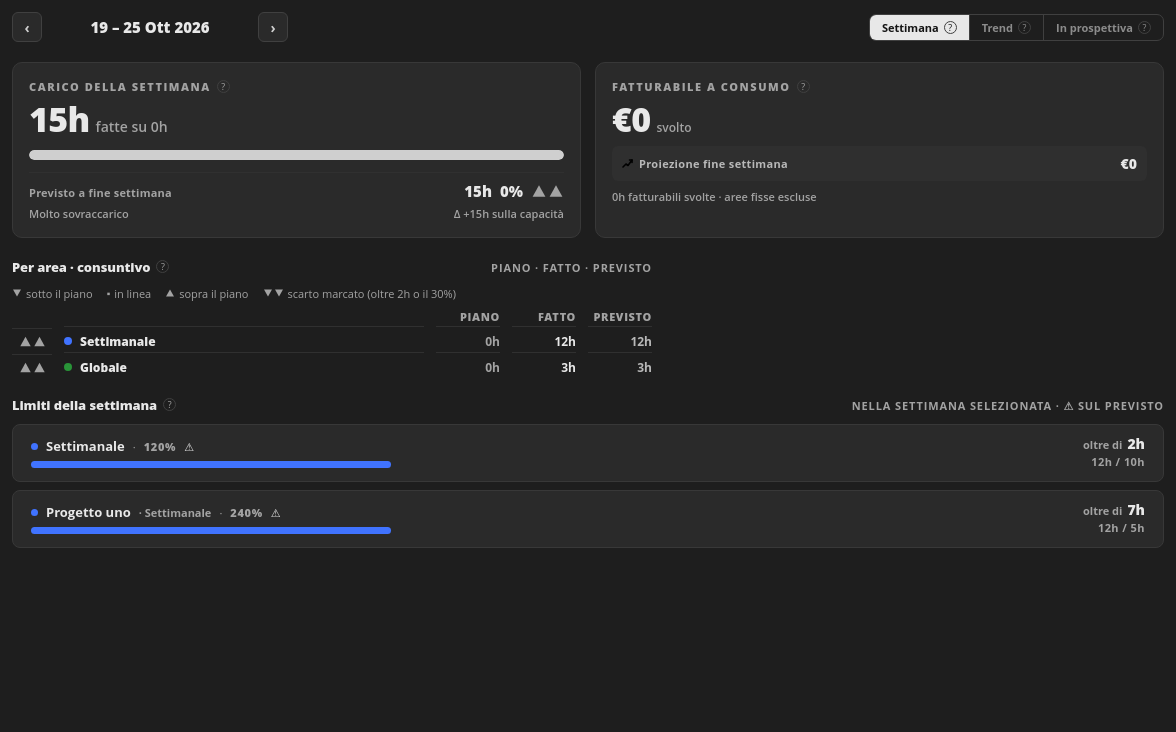
Test: ProgressScreen / Settimana: limiti e budget › Limiti della settimana mostra solo i tetti settimanali; i budget totali stanno in In prospettiva
Expected: the text "Settimanale" next to "120" is shown, [46,437,125,455]
Expected: the text "Progetto uno" is shown, [46,503,131,521]
Click the button "In prospettiva": (1094, 27) [1056,20,1133,34]
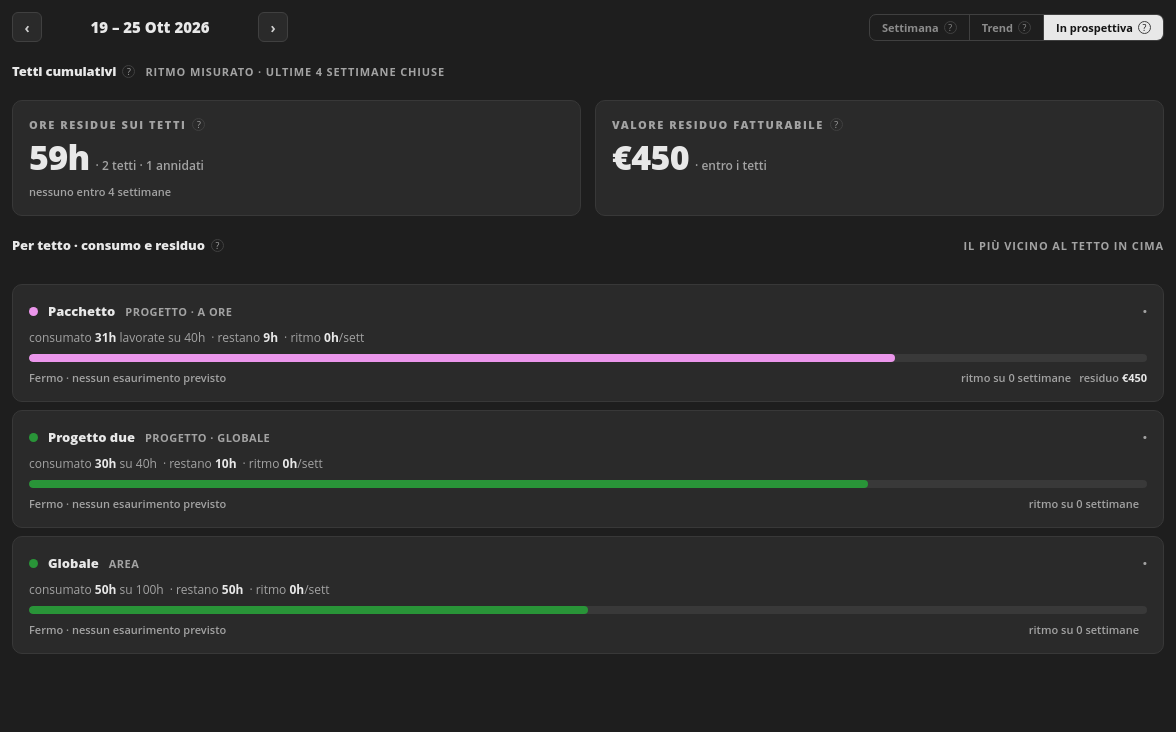
Expected: the text "Progetto due" is shown, [48,428,135,446]
